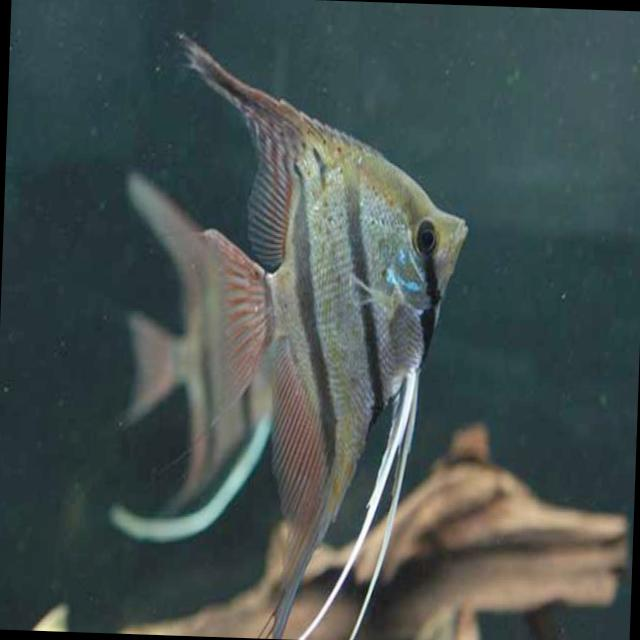AngelFish: (156, 27, 472, 636)
